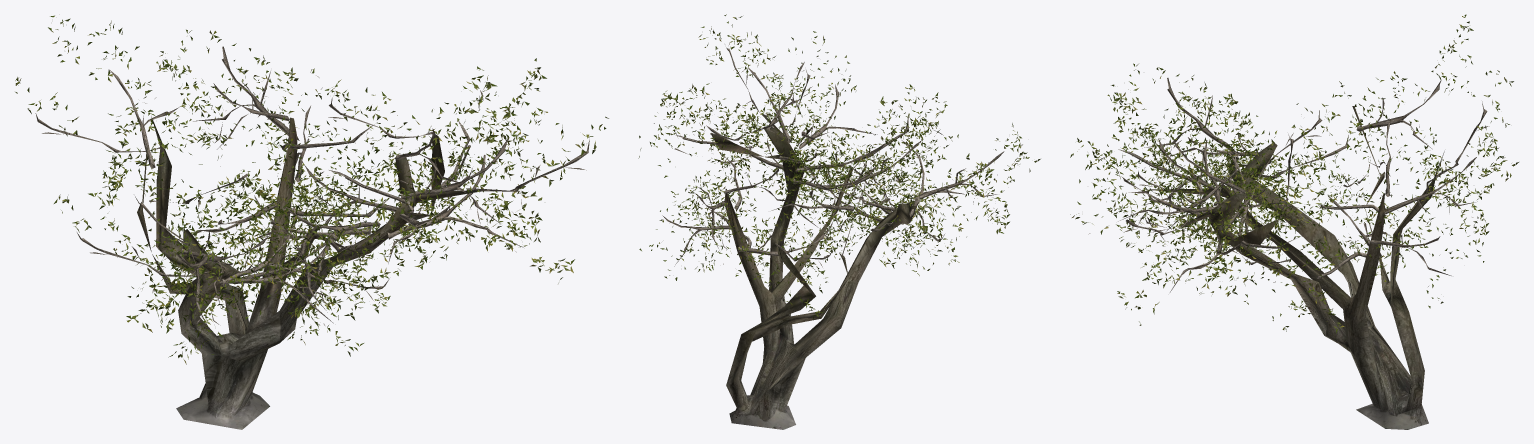
Rendered from island_tree_02_lod1.glb.
3 views of the same model, side by side, from view 1: azimuth 30°, elevation 25°; view 2: azimuth 150°, elevation 25°; view 3: azimuth 270°, elevation 25° (orthographic). The views are drawn at different scales.
Visible parts, largest first — view 1: island_tree_02_LOD0; view 2: island_tree_02_LOD0; view 3: island_tree_02_LOD0.
Part boxes in pixels (x1,y1,x2,y2): island_tree_02_LOD0: (15, 15, 608, 429); island_tree_02_LOD0: (638, 14, 1040, 429); island_tree_02_LOD0: (1070, 14, 1518, 429).
Size of the model in its own units: 3.77 by 3.4 by 4.03.
3 materials, 3 textured.
